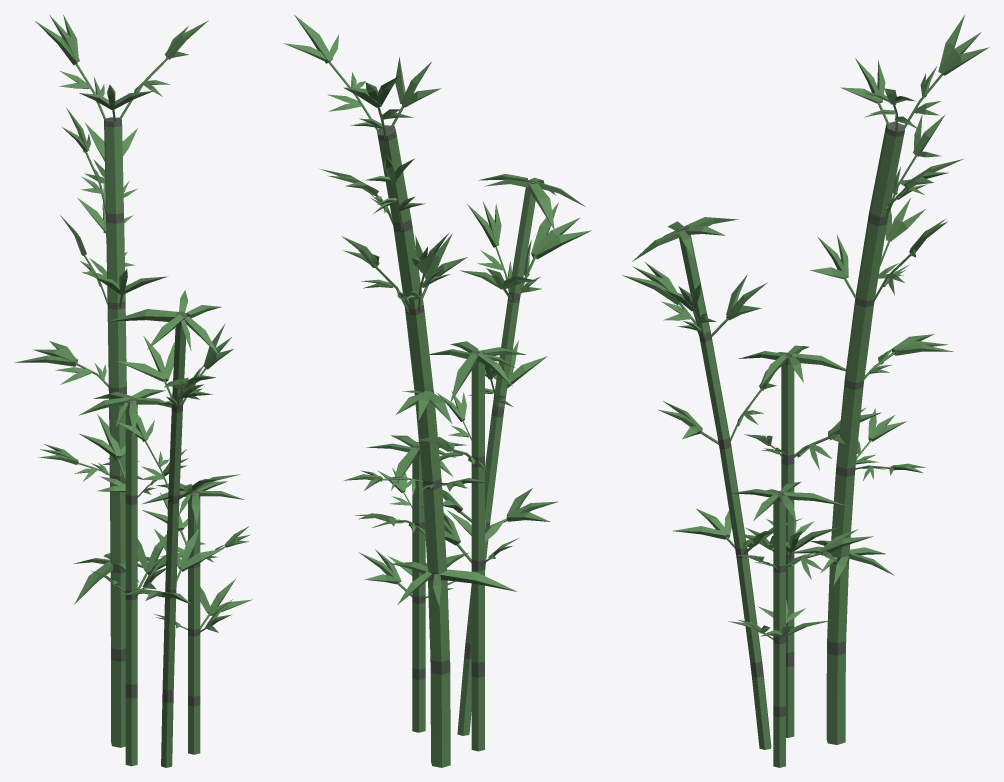
The picture shows the model from 3 angles, left to right: view 1: azimuth 30°, elevation 25°; view 2: azimuth 150°, elevation 25°; view 3: azimuth 270°, elevation 25°; orthographic projection. The views are drawn at different scales.
Visible parts, largest first — view 1: bamboo35; view 2: bamboo35; view 3: bamboo35.
Boxes of the visible parts, bbox=[...] form: bamboo35: bbox=[15, 15, 252, 767]; bamboo35: bbox=[283, 15, 591, 767]; bamboo35: bbox=[622, 15, 989, 767].
Bounding box in the file's own units: 93.45 × 348 × 163.
